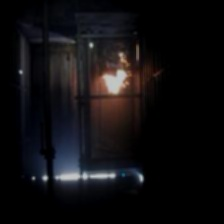fire: (103, 64, 129, 103)
